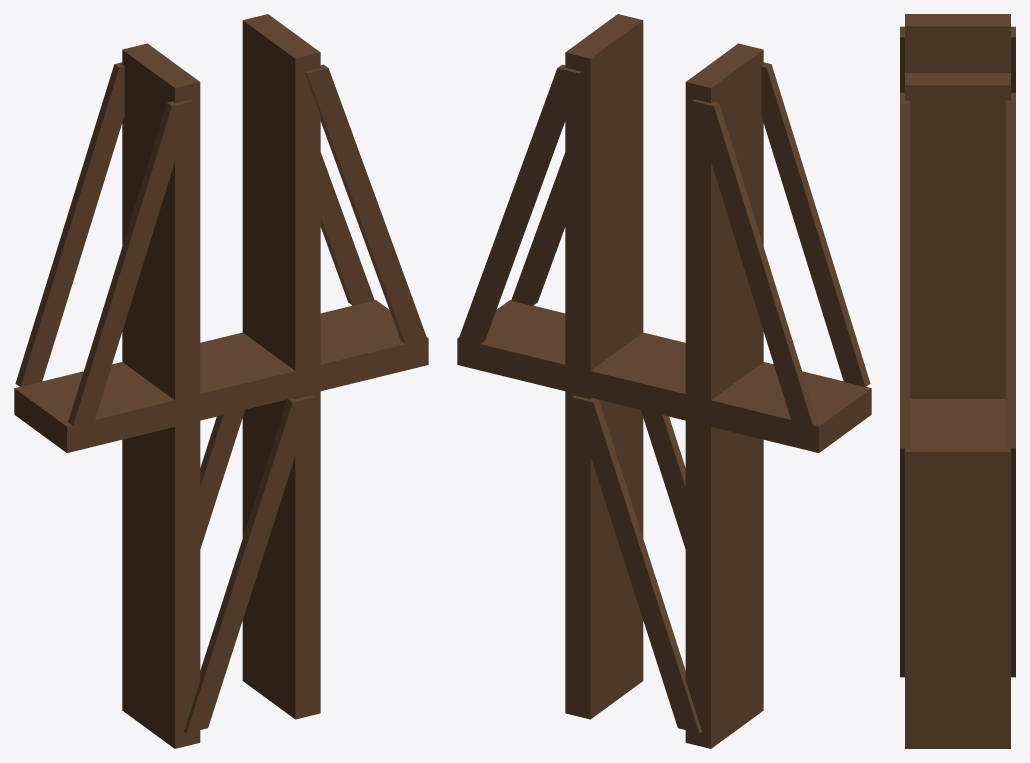
The model's file is FrameBraced.fbx.
The picture shows the model from 3 angles, left to right: view 1: azimuth 30°, elevation 25°; view 2: azimuth 150°, elevation 25°; view 3: azimuth 270°, elevation 25°; orthographic projection.
Visible parts, largest first — view 1: Kit_FrameBraced; view 2: Kit_FrameBraced; view 3: Kit_FrameBraced.
Part boxes in pixels (x1,y1,x2,y2): Kit_FrameBraced: [14, 14, 428, 748]; Kit_FrameBraced: [457, 14, 871, 748]; Kit_FrameBraced: [900, 14, 1015, 748].
Bounding box in the file's own units: 1 × 1.75 × 0.276.
